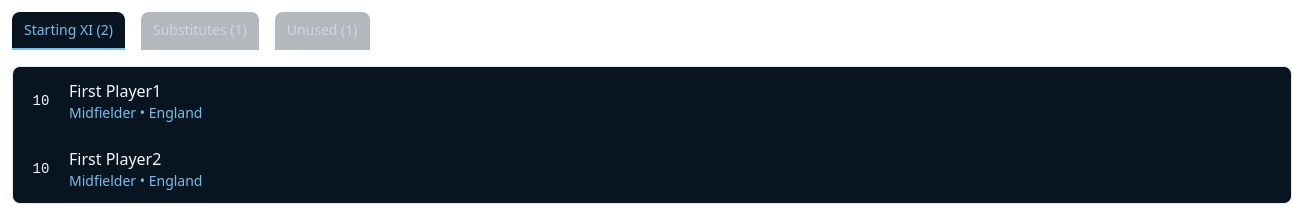
TeamLineup › switches to the Substitutes tab on click and shows that tab as active
Click the button "Substitutes (1)" at (200, 31), box [141,12,259,50]
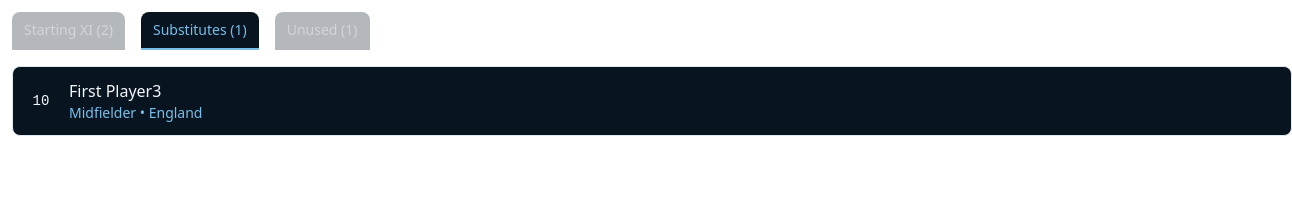
Expected: the text "First Player3" is shown, [69,79,161,103]
Expected: the link "First Player1" is gone
